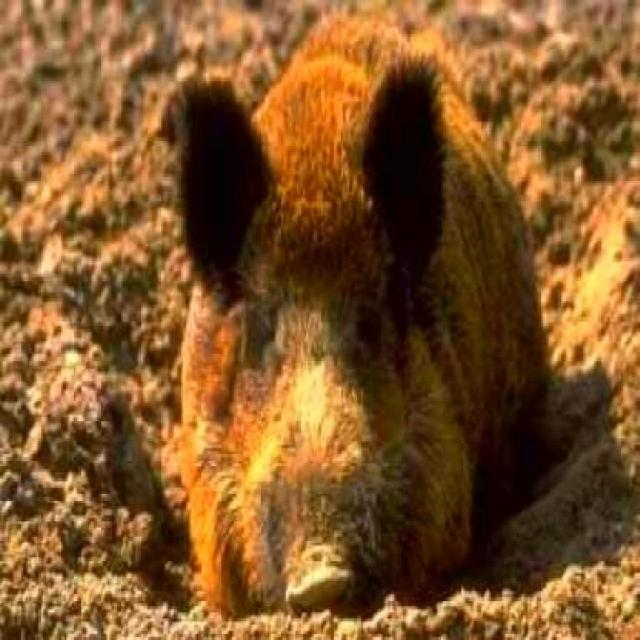Boar: (134, 0, 583, 638)
